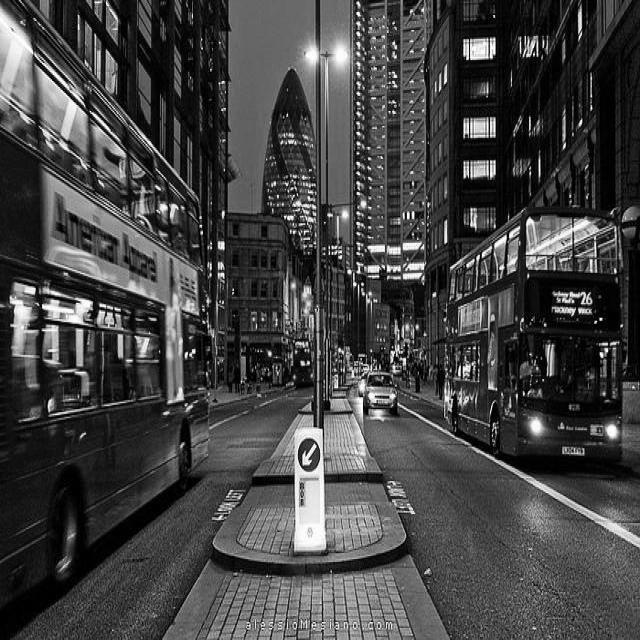vehicle: (0, 3, 210, 619), (443, 206, 627, 461), (12, 357, 62, 417), (363, 372, 398, 416), (290, 339, 314, 388), (357, 372, 367, 397), (394, 366, 402, 376)
